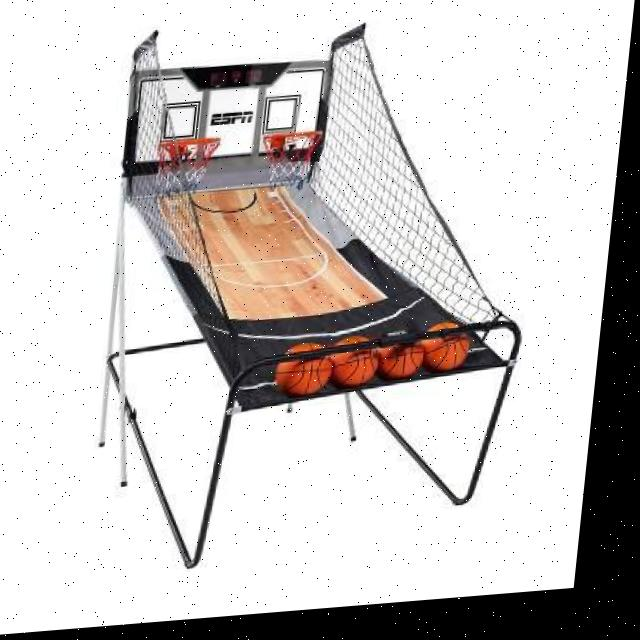basketball: (273, 341, 335, 400), (324, 334, 380, 391), (418, 320, 473, 375), (375, 333, 426, 382)
hoop: (153, 136, 220, 198), (258, 129, 324, 190)
